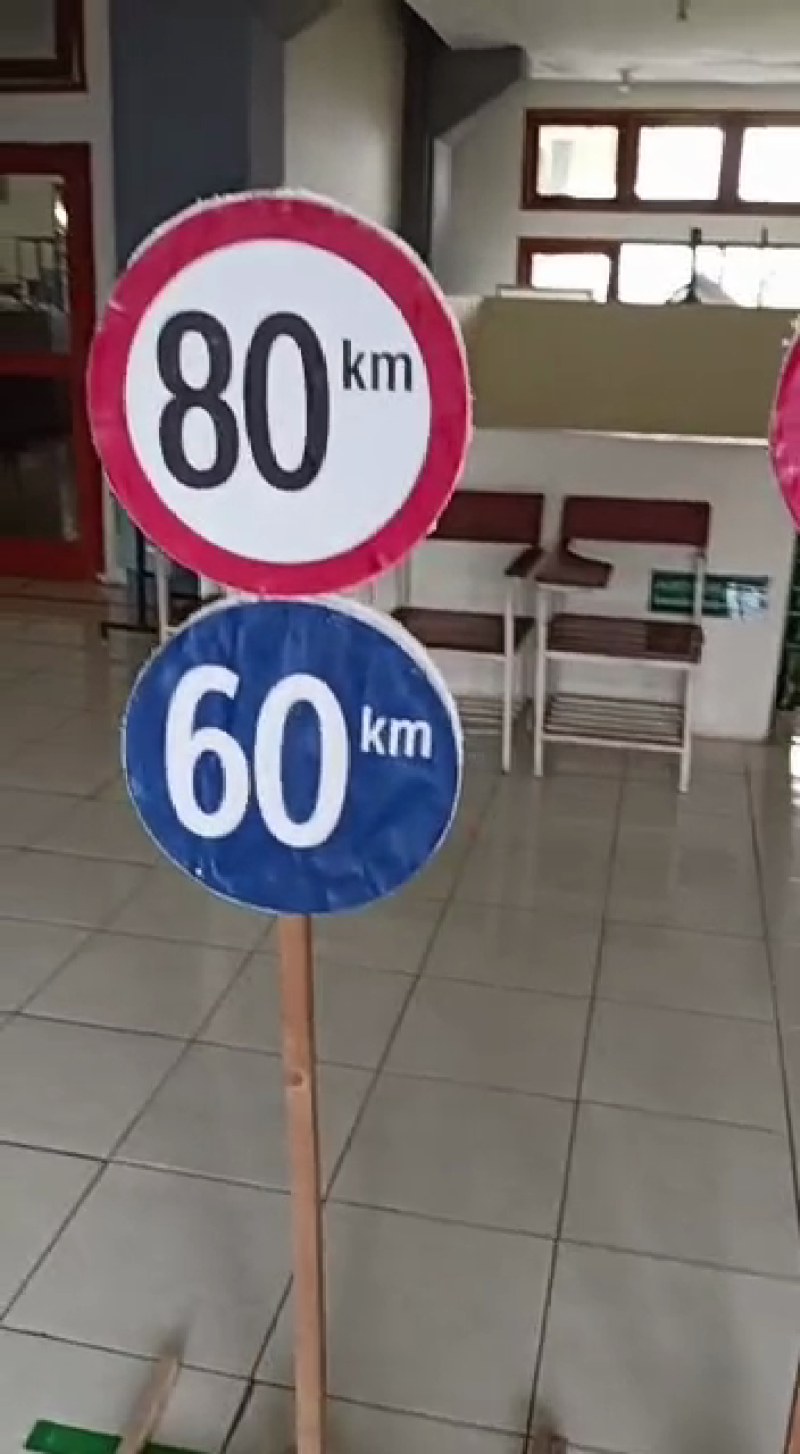batas maksimal 80kmperjam minimal 60kmperjam: (73, 183, 482, 931)
